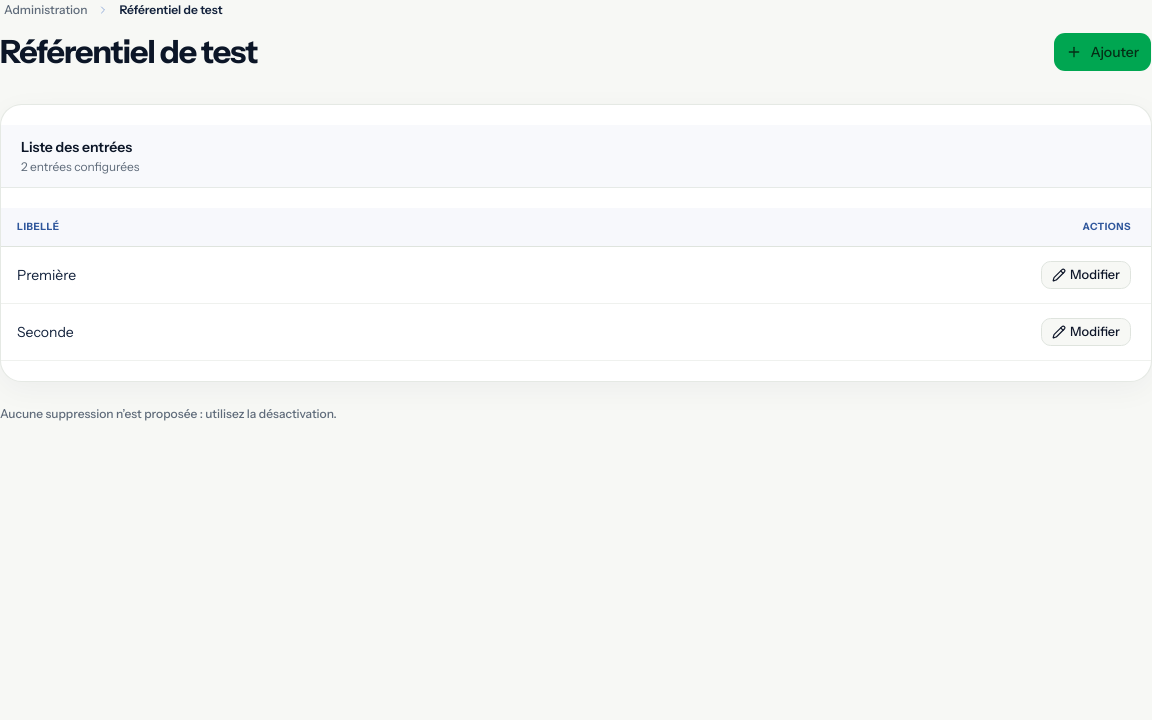
it: ⚠️ Changer de ligne en cours d’édition › ⚠️ recharge les champs avec les valeurs de la NOUVELLE ligne
Click the button "Modifier" in the row of "Première" at (1086, 275), box [1041,261,1131,289]
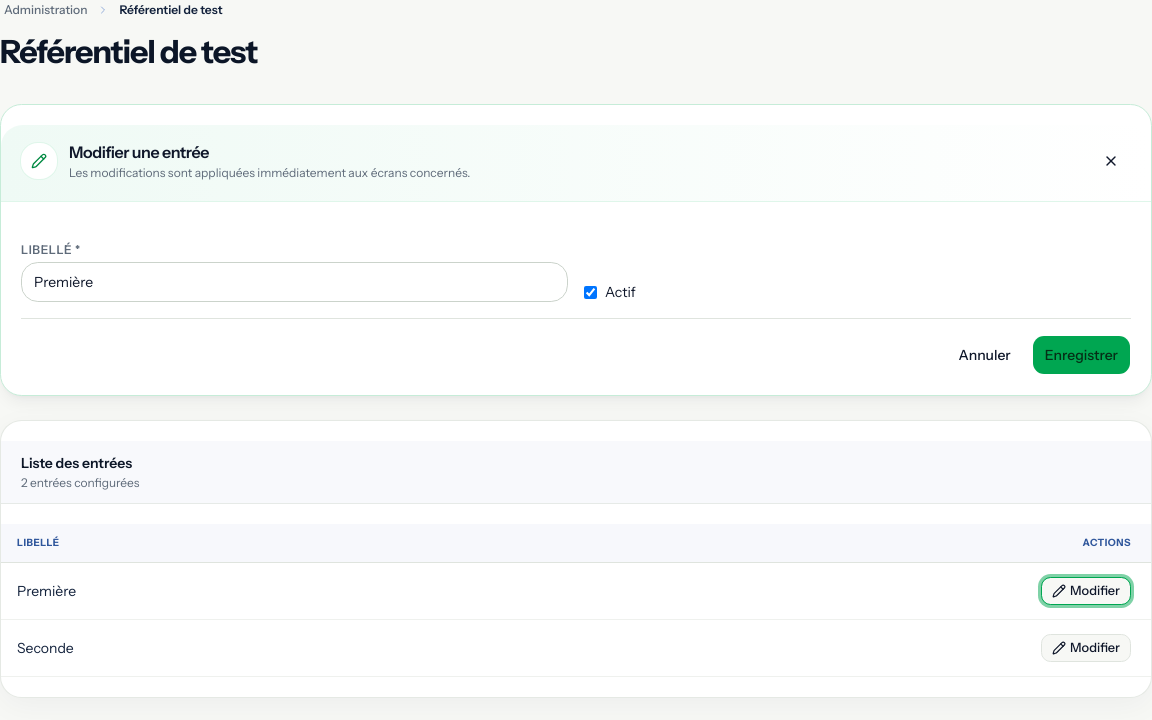
Now the field labelled "Libellé *" holds "Première", box [21,262,568,302]
Click the button "Modifier" in the row of "Seconde" at (1086, 648), box [1041,634,1131,662]
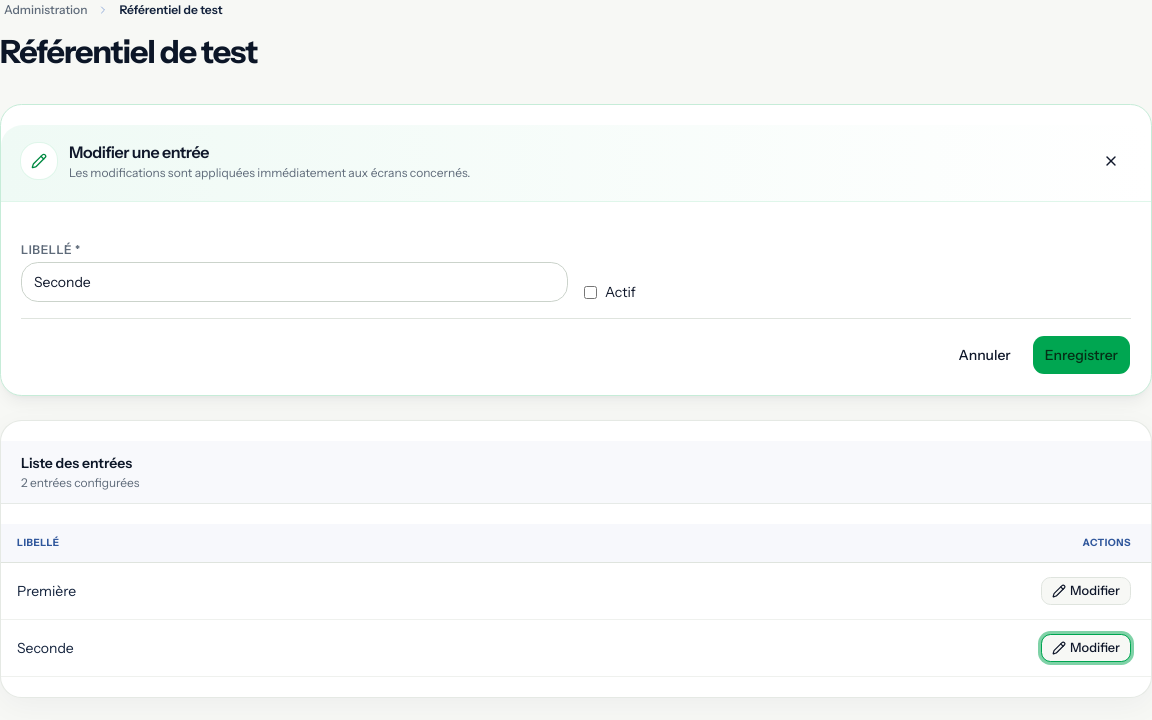
Now the field labelled "Libellé *" holds "Seconde", box [21,262,568,302]
Now the checkbox labelled "Actif" is not checked, box [584,286,597,298]
